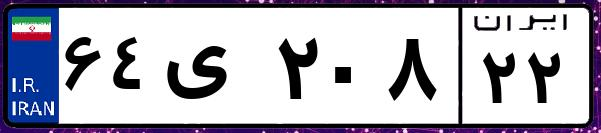0: (330, 28, 385, 110)
2: (270, 28, 330, 110), (475, 38, 525, 113), (525, 38, 570, 115)
4: (110, 28, 158, 98)
6: (57, 26, 110, 100)
8: (385, 28, 445, 110)
ی: (158, 20, 270, 120)
